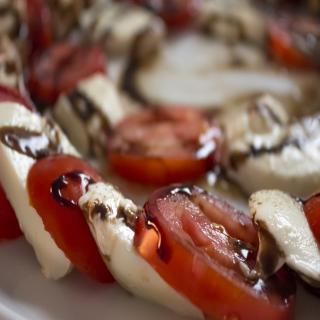Cheese: (78, 180, 206, 320), (0, 100, 78, 282), (225, 110, 320, 204), (246, 188, 320, 290)
